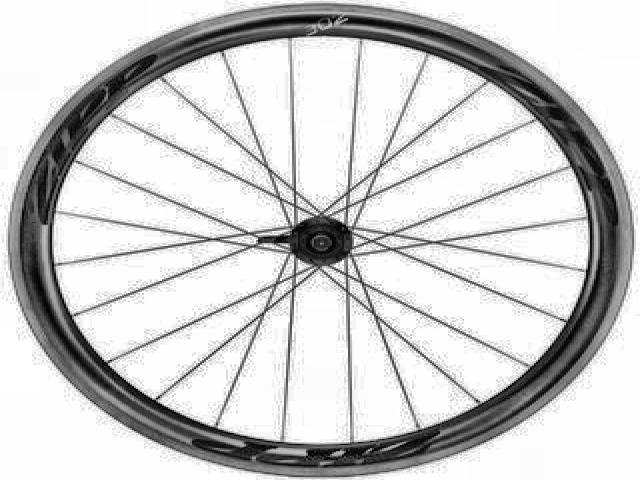wheel: (7, 3, 638, 480)
